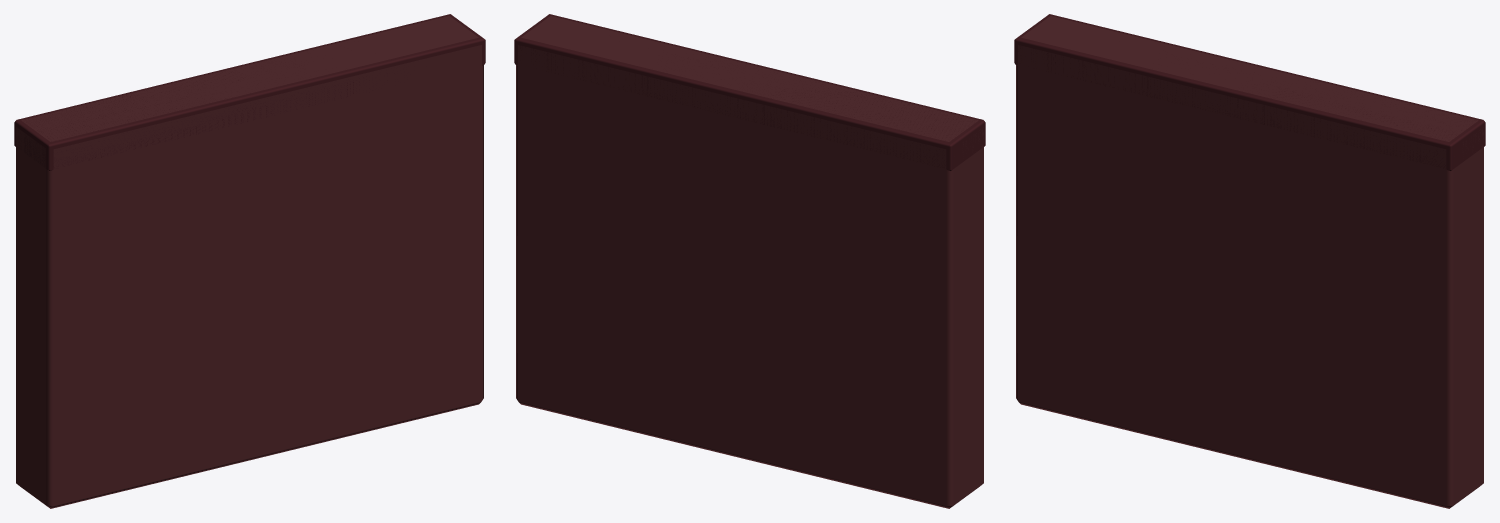
Rendered from living-cave-stair-side.51265131.glb.
The picture shows the model from 3 angles, left to right: view 1: azimuth 30°, elevation 25°; view 2: azimuth 150°, elevation 25°; view 3: azimuth 330°, elevation 25°; orthographic projection.
Visible parts, largest first — view 1: body; view 2: body; view 3: body.
Boxes of the visible parts, x1=… form: body: x1=14, y1=14, x2=485, y2=508; body: x1=514, y1=14, x2=985, y2=508; body: x1=1014, y1=14, x2=1485, y2=508.
Bounding box in the file's own units: 1 × 0.8 × 0.14.
